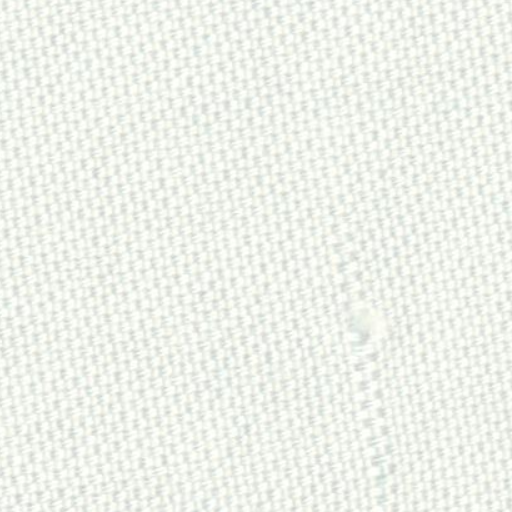PoDong: (320, 276, 409, 362)
